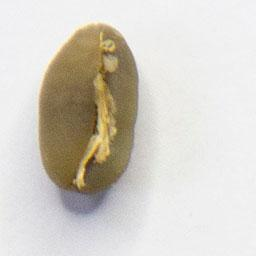peaberry: (35, 18, 144, 200)
